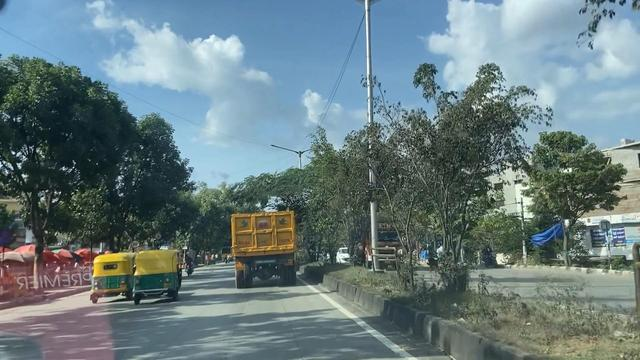HMV: (236, 206, 299, 283)
LMV: (136, 255, 189, 310), (91, 254, 132, 294)
